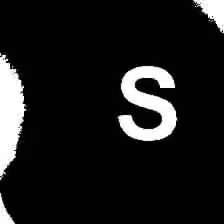LTR_S: (116, 61, 179, 145)
